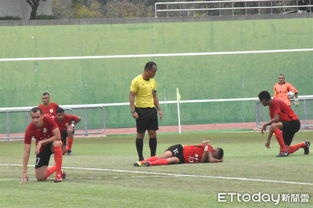falling: (126, 135, 228, 168)
